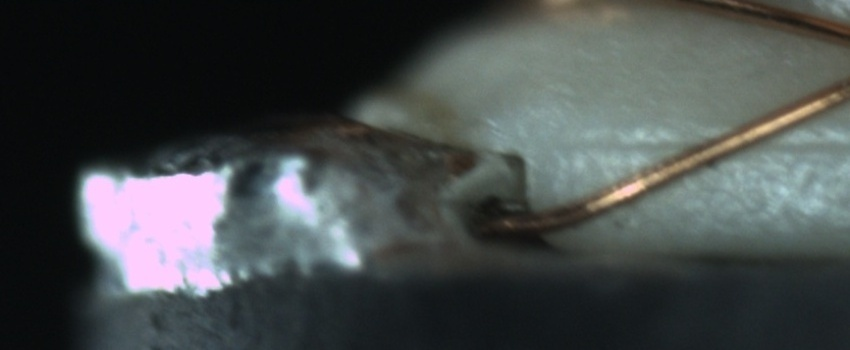DL: (563, 113, 848, 175)
